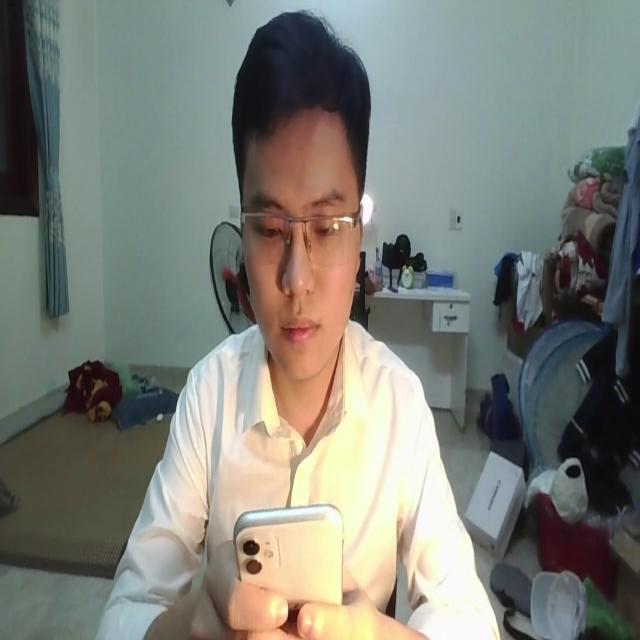phone: (230, 498, 346, 634)
student: (116, 10, 499, 640)
